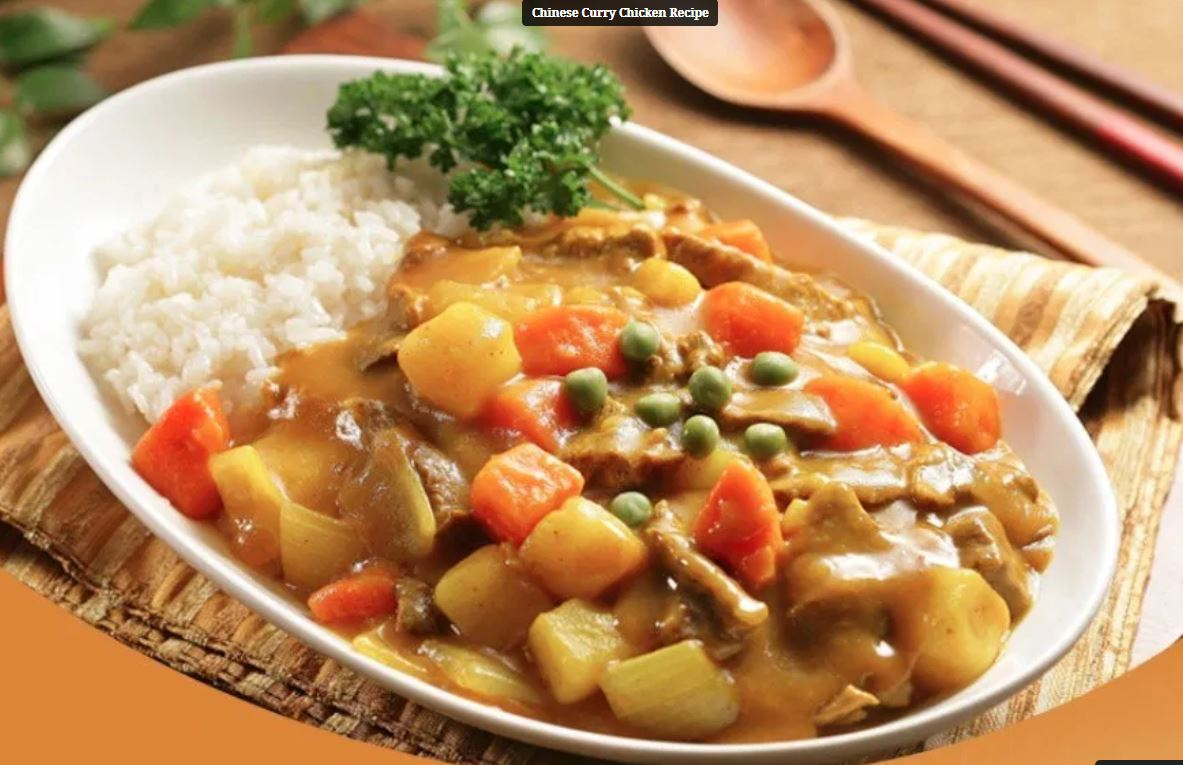curry: (362, 249, 965, 726), (374, 380, 782, 706), (730, 349, 1012, 680), (538, 205, 872, 481), (238, 367, 516, 626)
